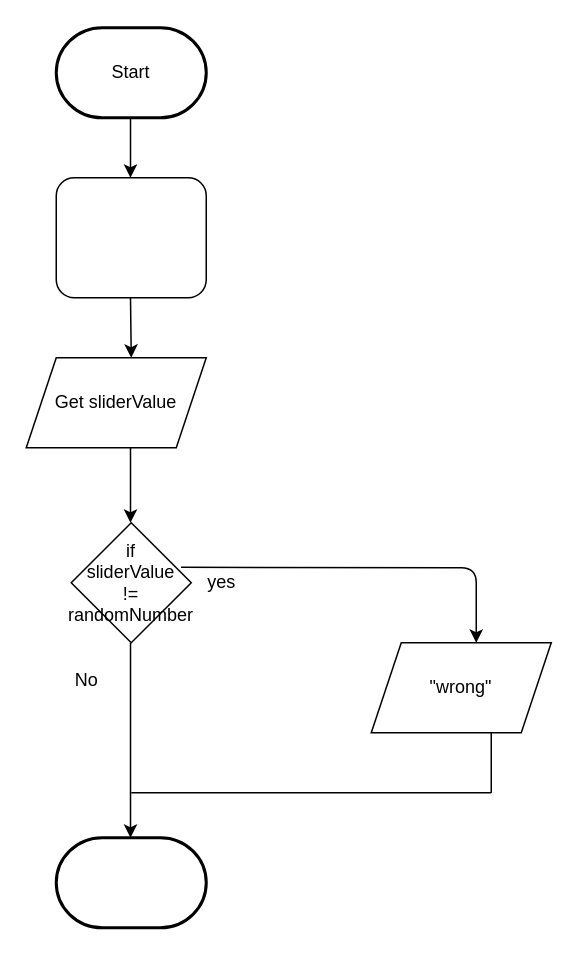
Some shapes in this 578 by 954 pixel diagram are drawn without their labels. Here are the shapes that lost their labels. From the top down, the centre of each, then its label:
At [130,237]: "Generate randomNumber".
At [130,882]: "Stop".
